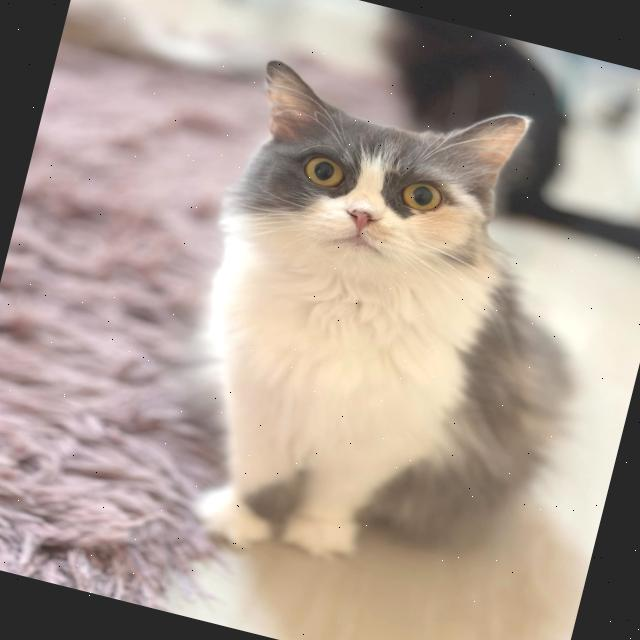persian_cat: (202, 32, 556, 348)
